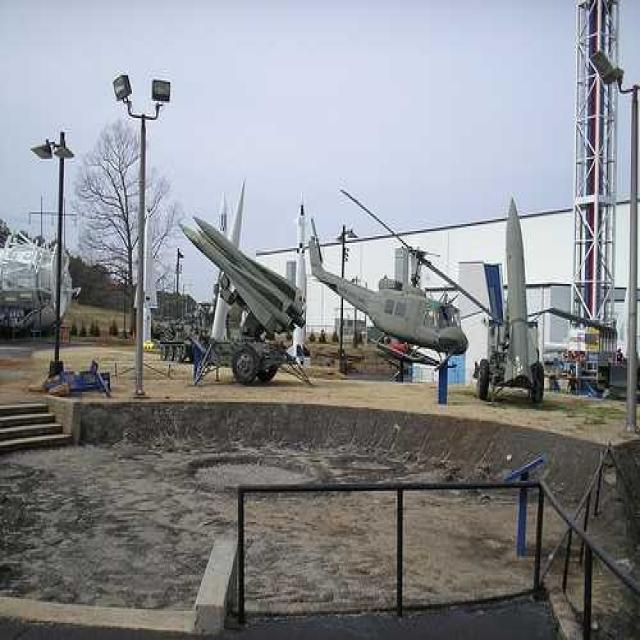missile: (192, 211, 305, 337), (492, 194, 548, 394)
